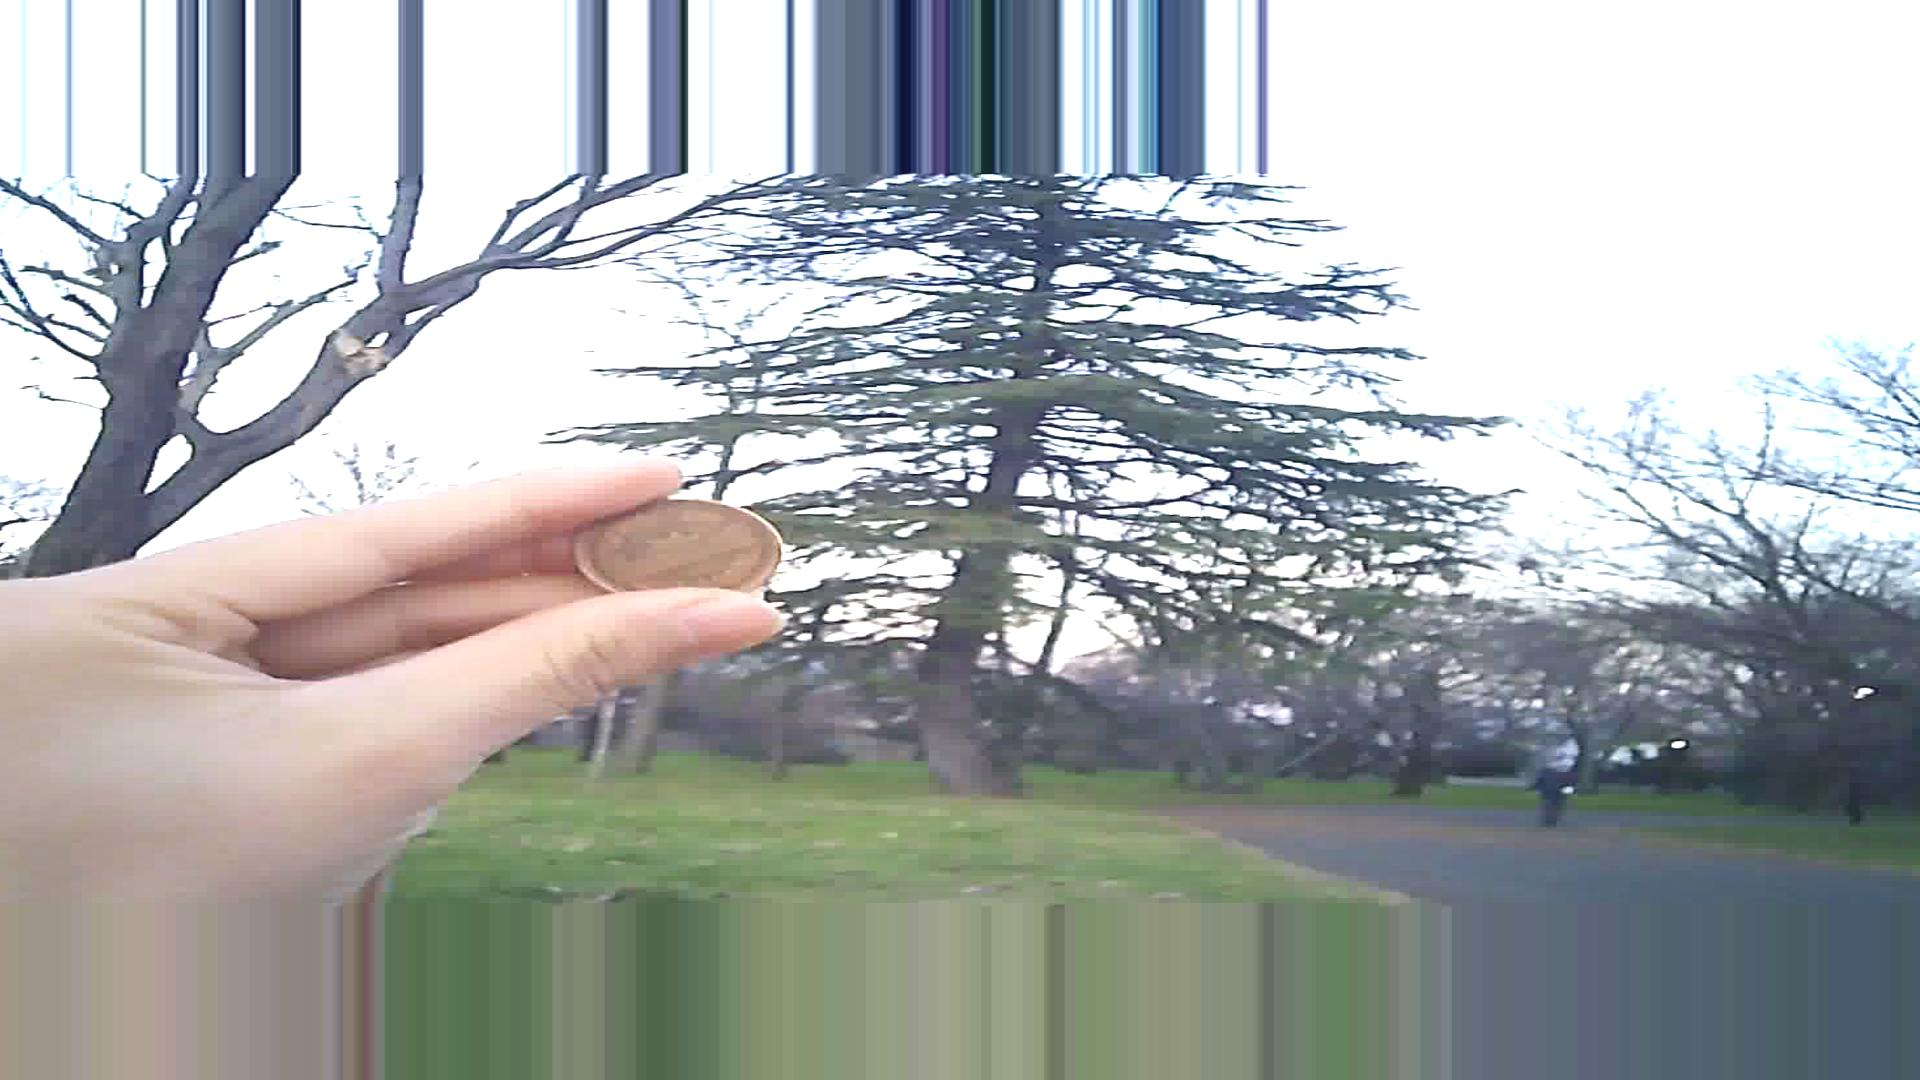10 Yen: (575, 488, 796, 599)
